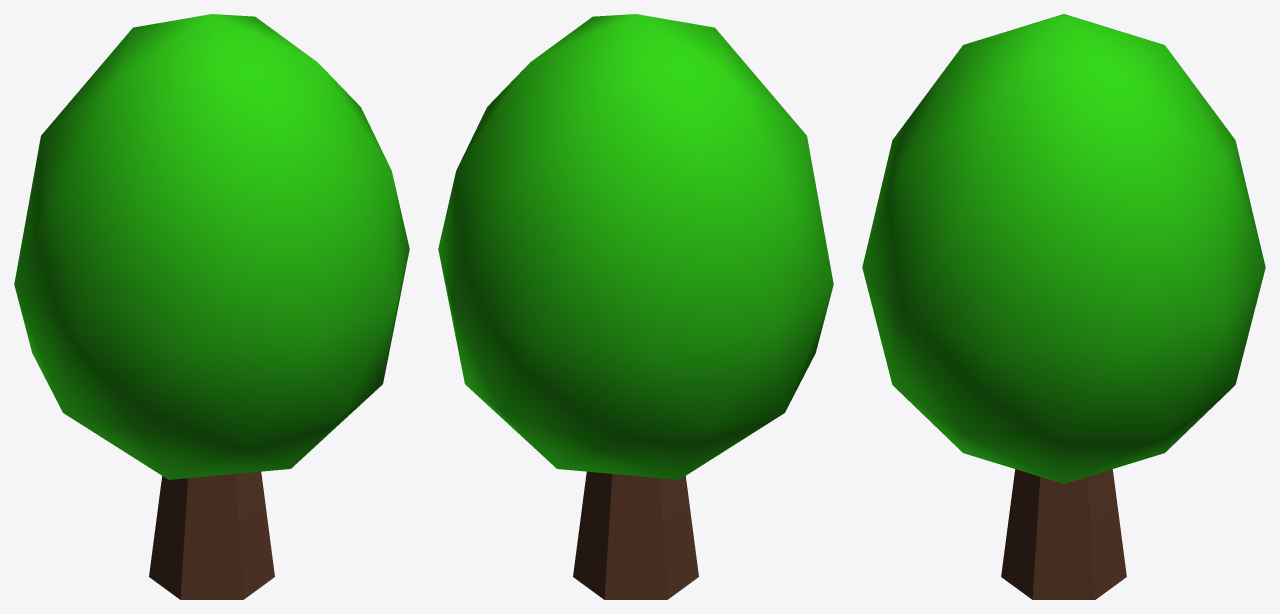
Rendered from Cay 1.004.gltf.
The picture shows the model from 3 angles, left to right: view 1: azimuth 30°, elevation 25°; view 2: azimuth 150°, elevation 25°; view 3: azimuth 270°, elevation 25°; orthographic projection.
Parts seen in each view (by area): view 1: Cay 1.004; view 2: Cay 1.004; view 3: Cay 1.004.
Part boxes in pixels (x1,y1,x2,y2): Cay 1.004: (14, 14, 409, 599); Cay 1.004: (438, 14, 833, 599); Cay 1.004: (862, 14, 1265, 599).
Size of the model in its own units: 5.93 by 9.58 by 6.24.
Materials: 1 (1 with a texture image).
